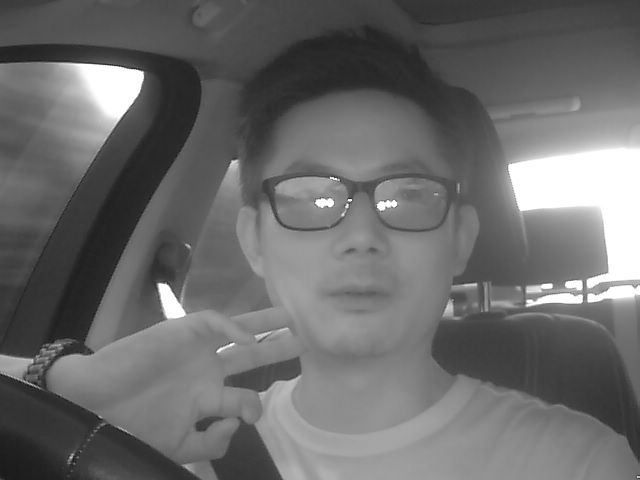hand: (91, 304, 292, 459)
